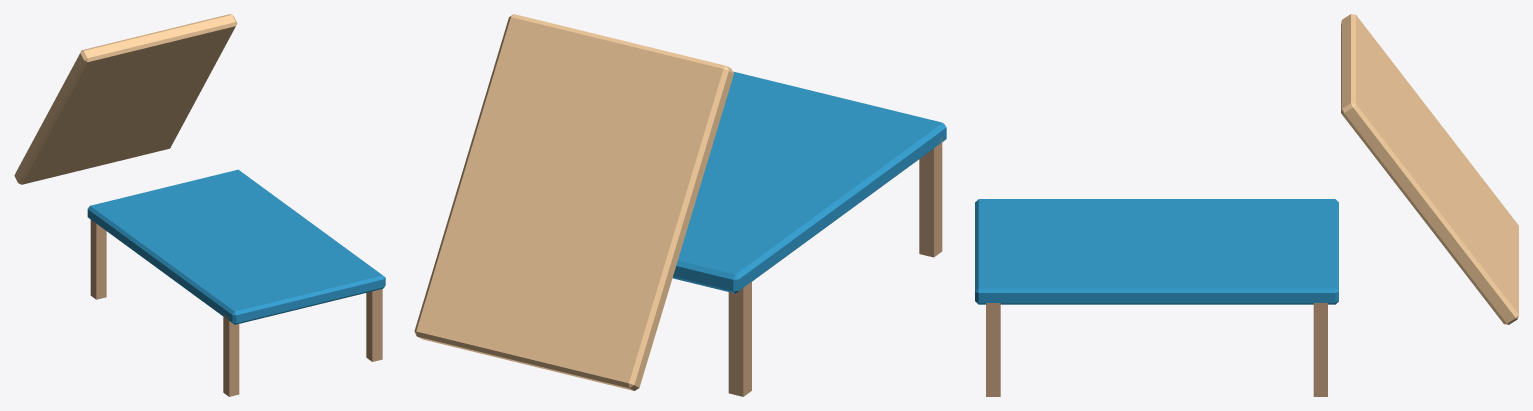
Rendered from deckchair.glb.
3 renders of one model, left to right at view 1: azimuth 30°, elevation 25°; view 2: azimuth 150°, elevation 25°; view 3: azimuth 270°, elevation 25°, orthographic. The views are drawn at different scales.
Visible parts, largest first — view 1: deckchair, deckchair_back, deckchair_leg0, deckchair_leg2, deckchair_leg1; view 2: deckchair_back, deckchair, deckchair_leg2, deckchair_leg0; view 3: deckchair, deckchair_back, deckchair_leg3, deckchair_leg1.
Part boxes in pixels (<box>): deckchair: <box>87,169,385,324</box>; deckchair_back: <box>14,14,237,184</box>; deckchair_leg0: <box>223,313,239,396</box>; deckchair_leg2: <box>90,219,106,299</box>; deckchair_leg1: <box>366,289,382,361</box>; deckchair_back: <box>414,14,733,390</box>; deckchair: <box>672,71,946,293</box>; deckchair_leg2: <box>728,277,751,396</box>; deckchair_leg0: <box>919,137,942,257</box>; deckchair: <box>975,199,1338,304</box>; deckchair_back: <box>1341,14,1518,324</box>; deckchair_leg3: <box>1313,299,1327,396</box>; deckchair_leg1: <box>986,303,1000,396</box>.
Size of the model in its own units: 0.6 by 0.8863 by 1.49.
